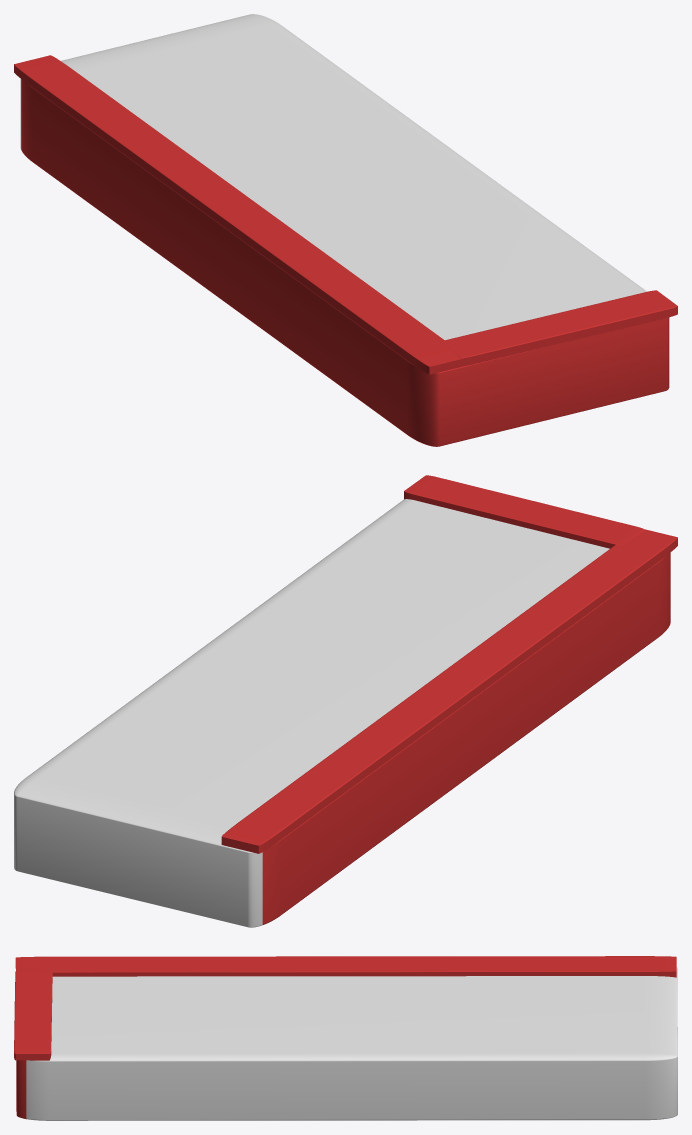
The model's file is Rsidewalk.fbx.
3 views of the same model, one above another, from view 1: azimuth 30°, elevation 25°; view 2: azimuth 150°, elevation 25°; view 3: azimuth 270°, elevation 25° (orthographic). The views are drawn at different scales.
Visible parts, largest first — view 1: Cube, 立方體, 立方體.001; view 2: Cube, 立方體, 立方體.001; view 3: Cube, 立方體, 立方體.001.
Boxes of the visible parts, x1,y1,x2,y2 form: Cube: (20, 14, 669, 446); 立方體: (14, 55, 464, 374); 立方體.001: (440, 290, 677, 365); Cube: (14, 499, 670, 927); 立方體: (221, 529, 677, 853); 立方體.001: (404, 475, 644, 548); Cube: (16, 967, 677, 1120); 立方體: (15, 956, 676, 977); 立方體.001: (14, 969, 52, 1060).
Size of the model in its own units: 816 by 267 by 2328.
